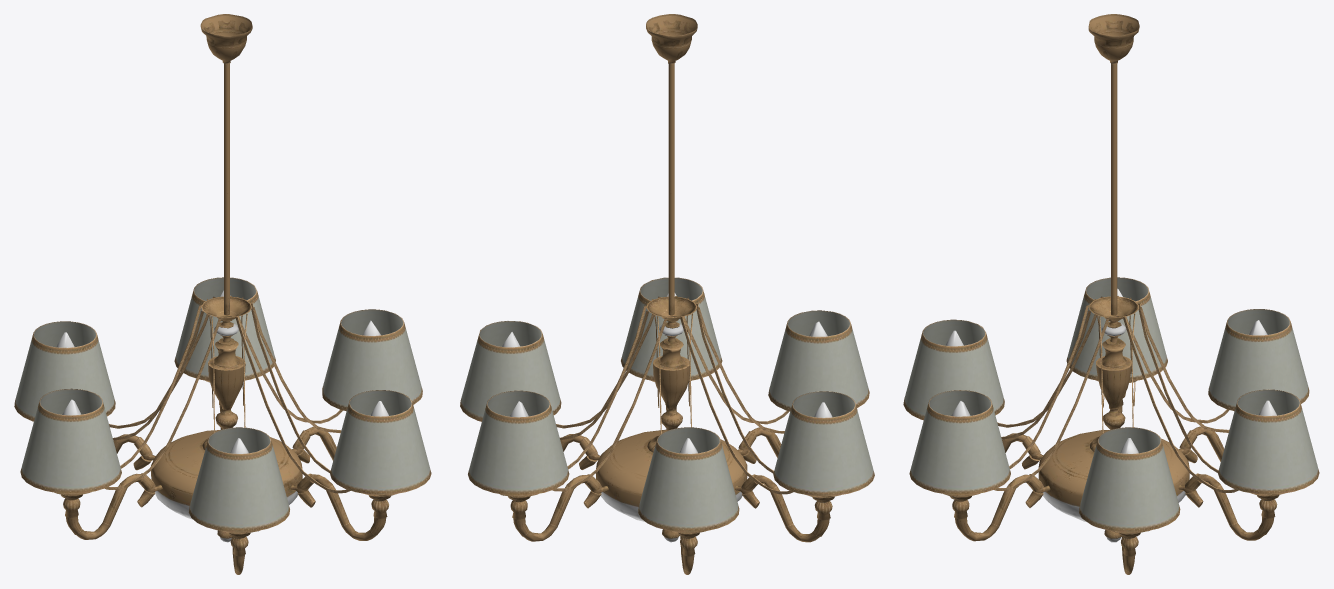
Rendered from chandelier_02.glb.
The picture shows the model from 3 angles, left to right: view 1: azimuth 30°, elevation 25°; view 2: azimuth 150°, elevation 25°; view 3: azimuth 270°, elevation 25°; orthographic projection.
Visible parts, largest first — view 1: Chandelier_02; view 2: Chandelier_02; view 3: Chandelier_02.
Part boxes in pixels (x1=…): Chandelier_02: x1=14, y1=14, x2=431, y2=574; Chandelier_02: x1=460, y1=14, x2=874, y2=574; Chandelier_02: x1=903, y1=14, x2=1319, y2=574.
Size of the model in its own units: 0.6788 by 0.8481 by 0.6191.
2 materials, 1 textured.
